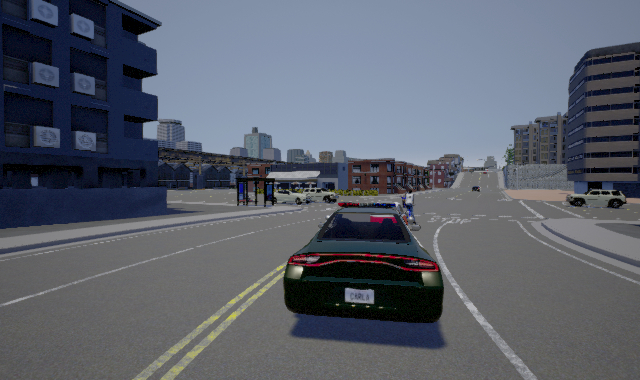bike: (399, 189, 415, 226)
vehicle: (283, 201, 444, 323), (566, 188, 627, 208), (274, 188, 309, 204), (305, 188, 338, 203)
